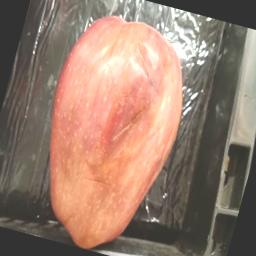Apple Overripe: (14, 2, 205, 256)
